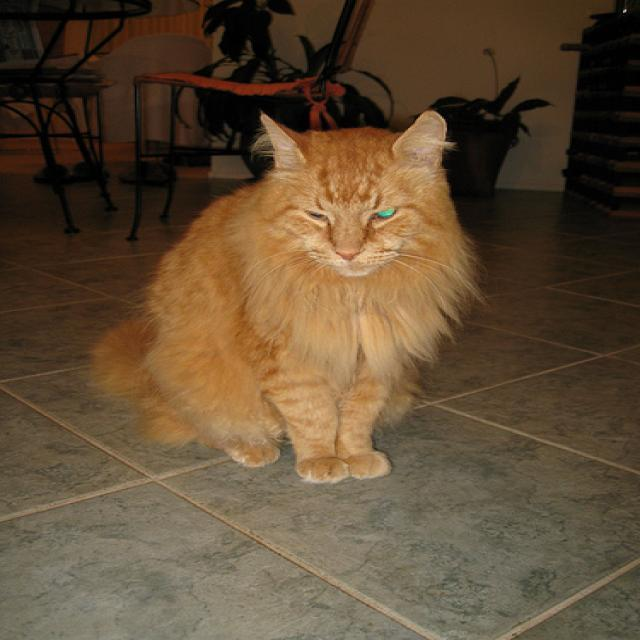Maine_Coon: (243, 102, 462, 284)
